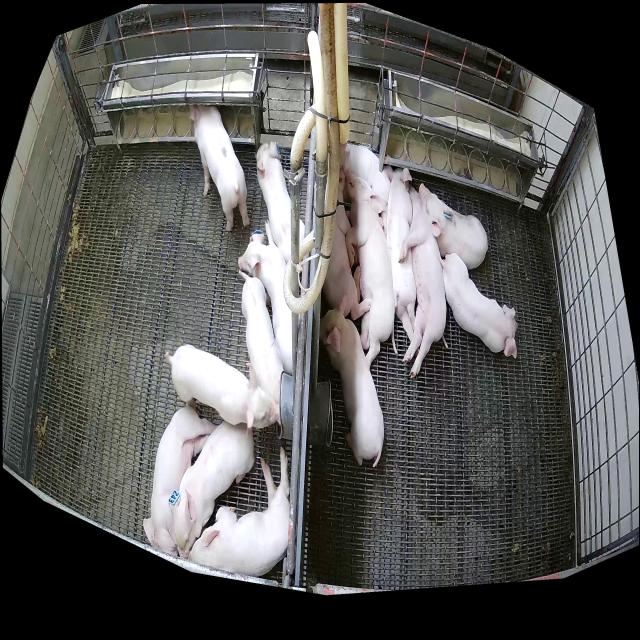pig: (188, 446, 290, 576), (167, 422, 254, 561), (320, 297, 385, 467), (143, 407, 216, 556), (344, 171, 398, 366), (165, 344, 280, 428), (399, 186, 449, 378), (239, 220, 292, 375), (442, 253, 517, 359), (188, 106, 250, 232), (324, 169, 372, 320), (255, 141, 305, 263), (237, 270, 283, 402), (418, 183, 488, 269), (385, 164, 418, 346), (341, 143, 390, 235)
